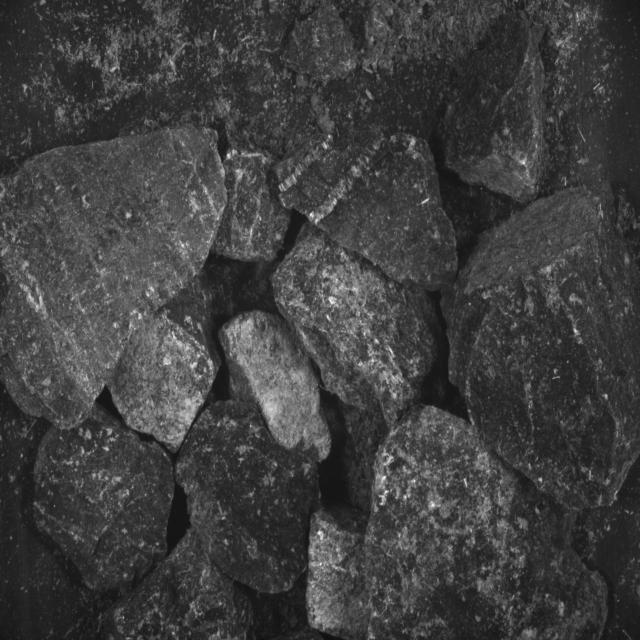Stones: (307, 408, 607, 640), (1, 128, 227, 430), (450, 189, 640, 510), (274, 226, 439, 427), (275, 134, 459, 292), (176, 401, 320, 594), (35, 406, 175, 591), (110, 275, 221, 453), (445, 15, 549, 204), (220, 311, 332, 461), (106, 529, 254, 640), (214, 154, 291, 262)
